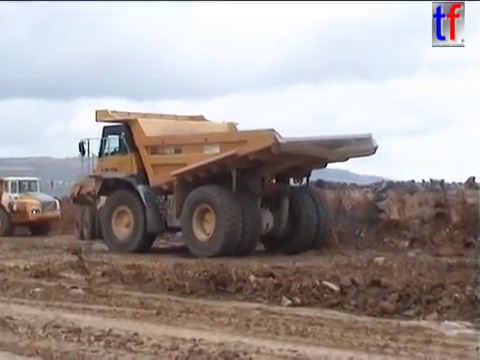truck: (77, 107, 381, 261), (67, 151, 177, 242)
